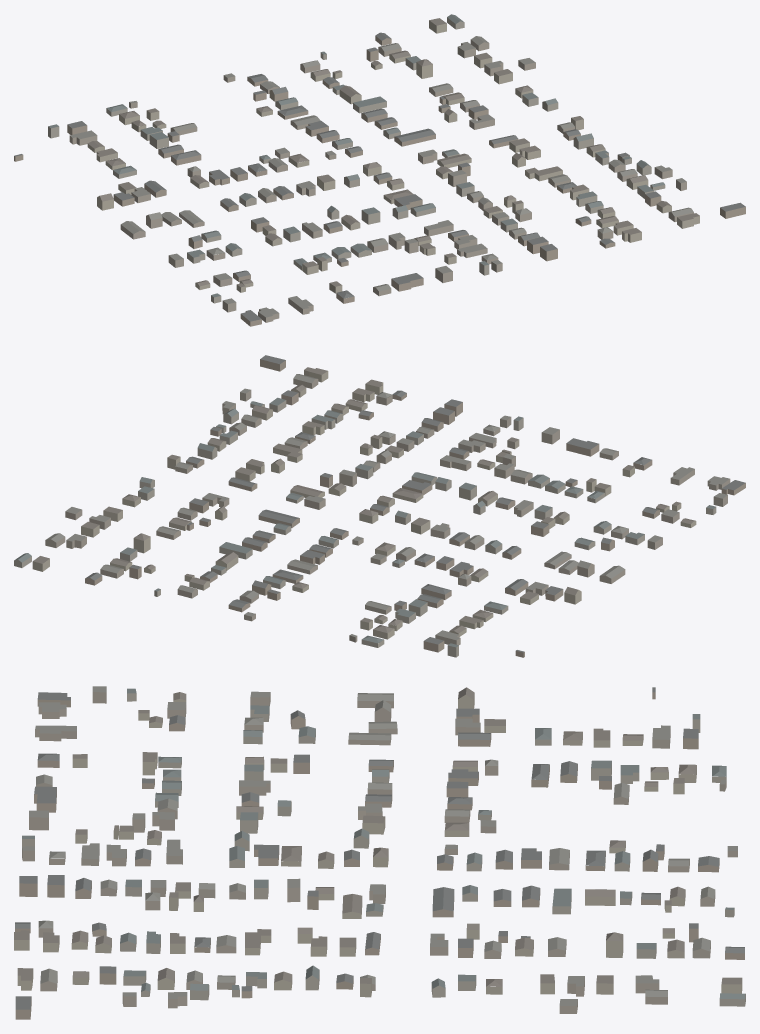
File: fa10d0fd757a-chunk-1199_11842.glb
The picture shows the model from 3 angles, top to bottom: view 1: azimuth 30°, elevation 25°; view 2: azimuth 150°, elevation 25°; view 3: azimuth 270°, elevation 25°; orthographic projection. The views are drawn at different scales.
Visible parts, largest first — view 1: no part large enough to name; view 2: no part large enough to name; view 3: building_20744, building_13165, building_169922.
Boxes of the visible parts, x1=… form: building_20744: x1=432, y1=887, x2=454, y2=917; building_13165: x1=35, y1=725, x2=76, y2=741; building_169922: x1=34, y1=786, x2=56, y2=812.
Bounding box in the file's own units: 396 × 12.57 × 376.
